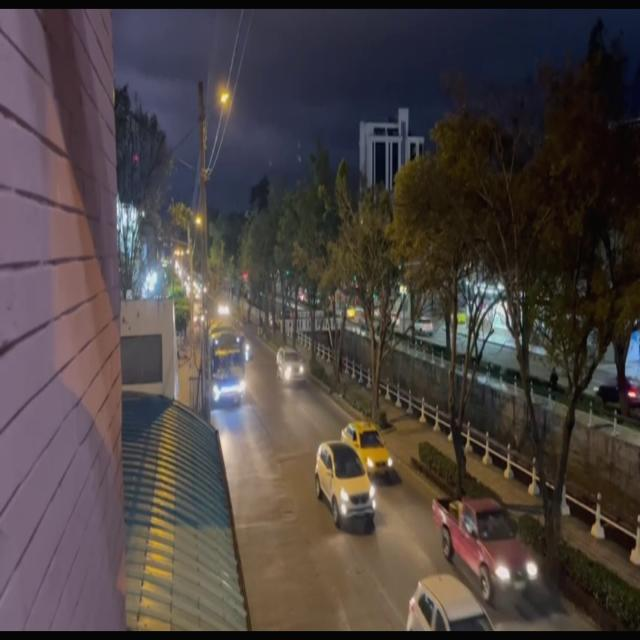BUS: (209, 324, 245, 406)
CMT: (436, 502, 536, 601)
